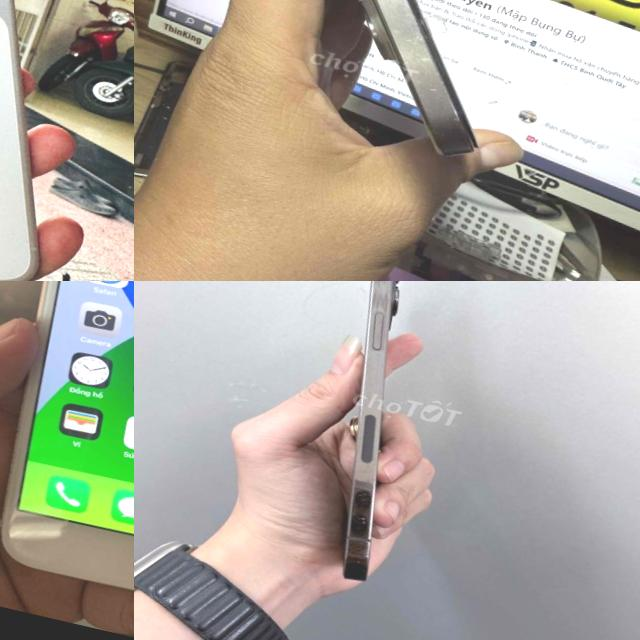gen_12_13: (286, 281, 460, 594)
gen_15: (252, 0, 557, 189)
gen_17: (0, 0, 116, 281)
gen_6: (0, 281, 134, 636)
